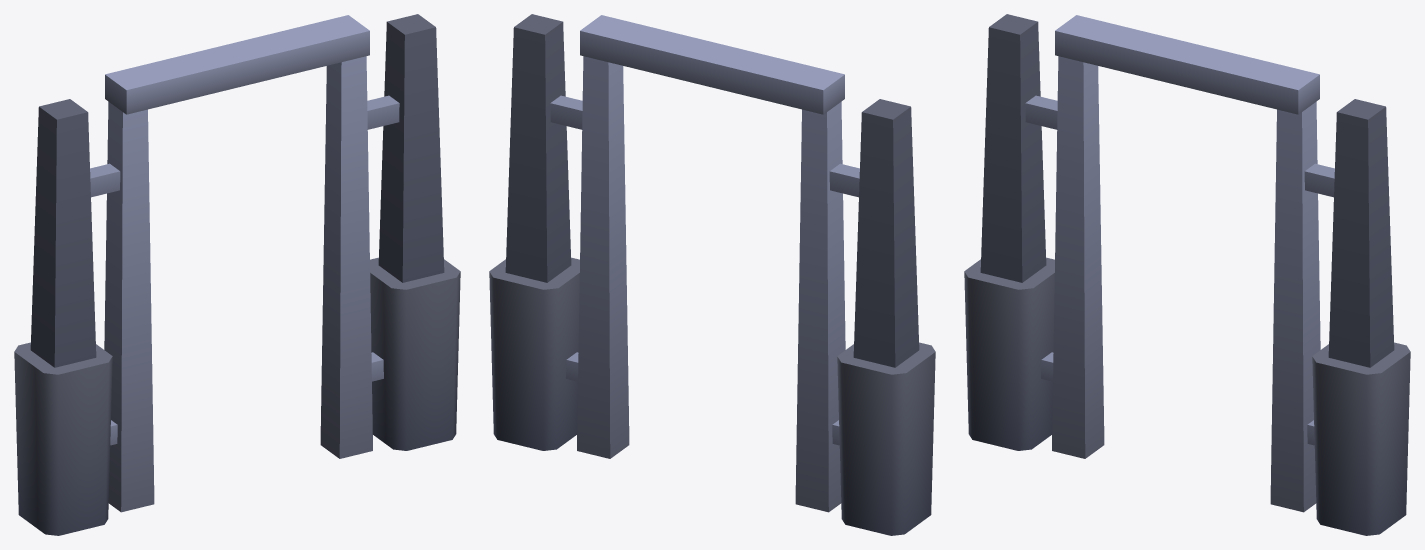
Rendered from structure-metal-doorway.glb.
3 renders of one model, left to right at view 1: azimuth 30°, elevation 25°; view 2: azimuth 150°, elevation 25°; view 3: azimuth 330°, elevation 25°, orthographic.
Visible parts, largest first — view 1: structure-metal-doorway, Group; view 2: structure-metal-doorway, Group; view 3: structure-metal-doorway, Group.
Boxes of the visible parts, box(x1,y1,x2,y2) form: structure-metal-doorway: box(14, 14, 460, 535); Group: box(105, 15, 369, 114); structure-metal-doorway: box(489, 14, 935, 535); Group: box(580, 15, 844, 114); structure-metal-doorway: box(964, 14, 1410, 535); Group: box(1055, 15, 1319, 114).
Bounding box in the file's own units: 0.5354 × 0.5175 × 0.0889.
